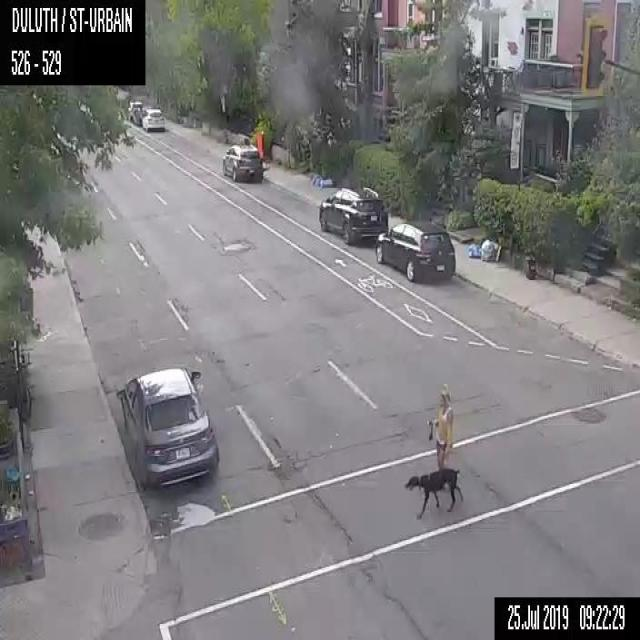construction: (255, 133, 263, 159)
pedestrian: (402, 380, 463, 520)
vehicle: (114, 362, 219, 490), (374, 220, 456, 281), (318, 186, 388, 244), (222, 143, 262, 181), (142, 106, 164, 130)
